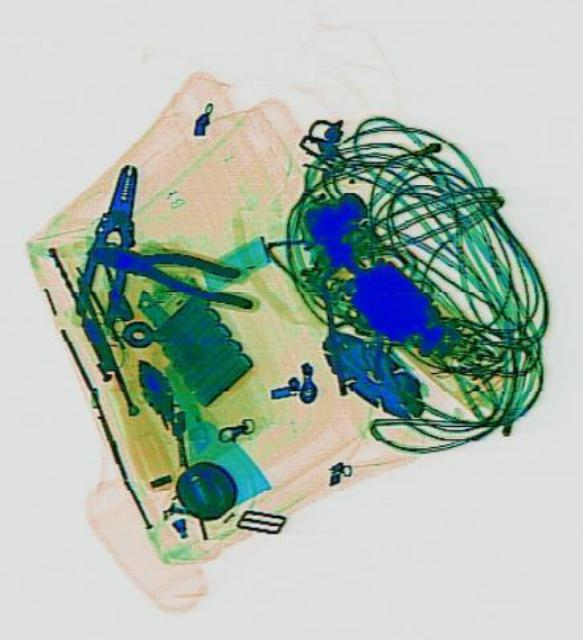Pliers: (83, 231, 260, 309), (68, 158, 145, 330)
